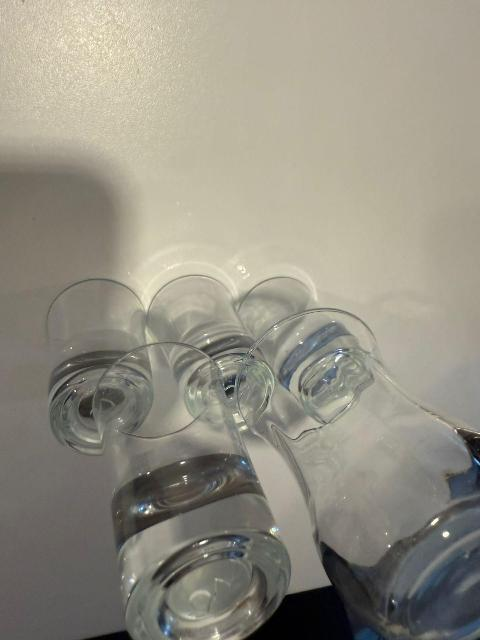Cam: (243, 312, 480, 640), (91, 346, 291, 640), (148, 271, 273, 426), (43, 270, 147, 452)
